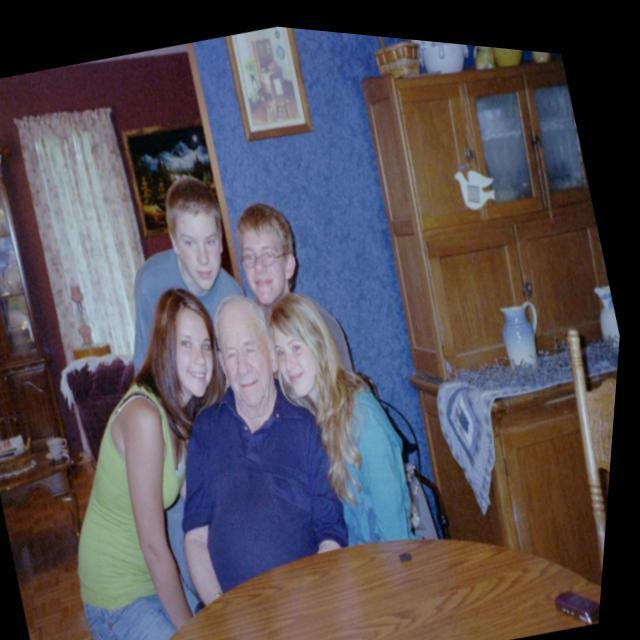Nonhelmet: (264, 294, 352, 410), (163, 176, 229, 296), (146, 288, 211, 398), (220, 290, 278, 412), (240, 198, 302, 308)
